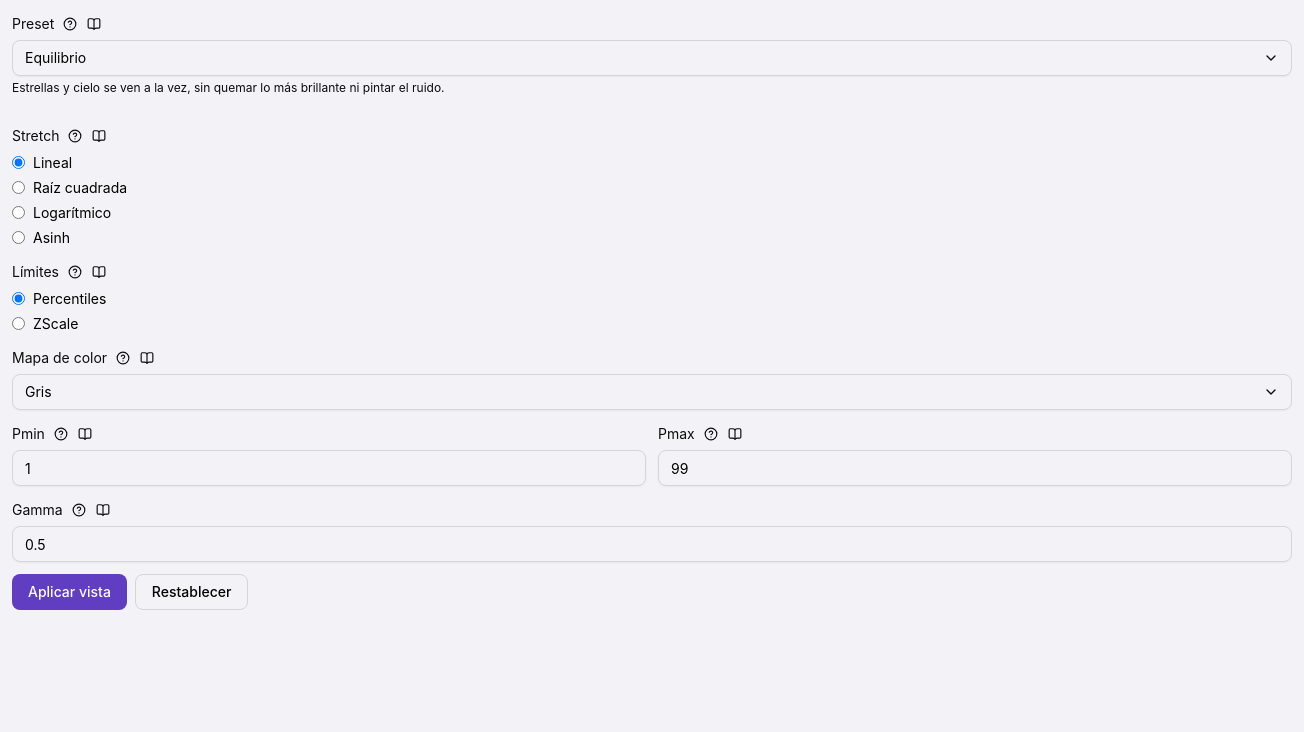
RenderViewForm › shows the hovered preset description under the select
The image size is (1304, 732).
Click the dropdown with test id "render-preset" at (56, 58), box [12,40,1292,76]
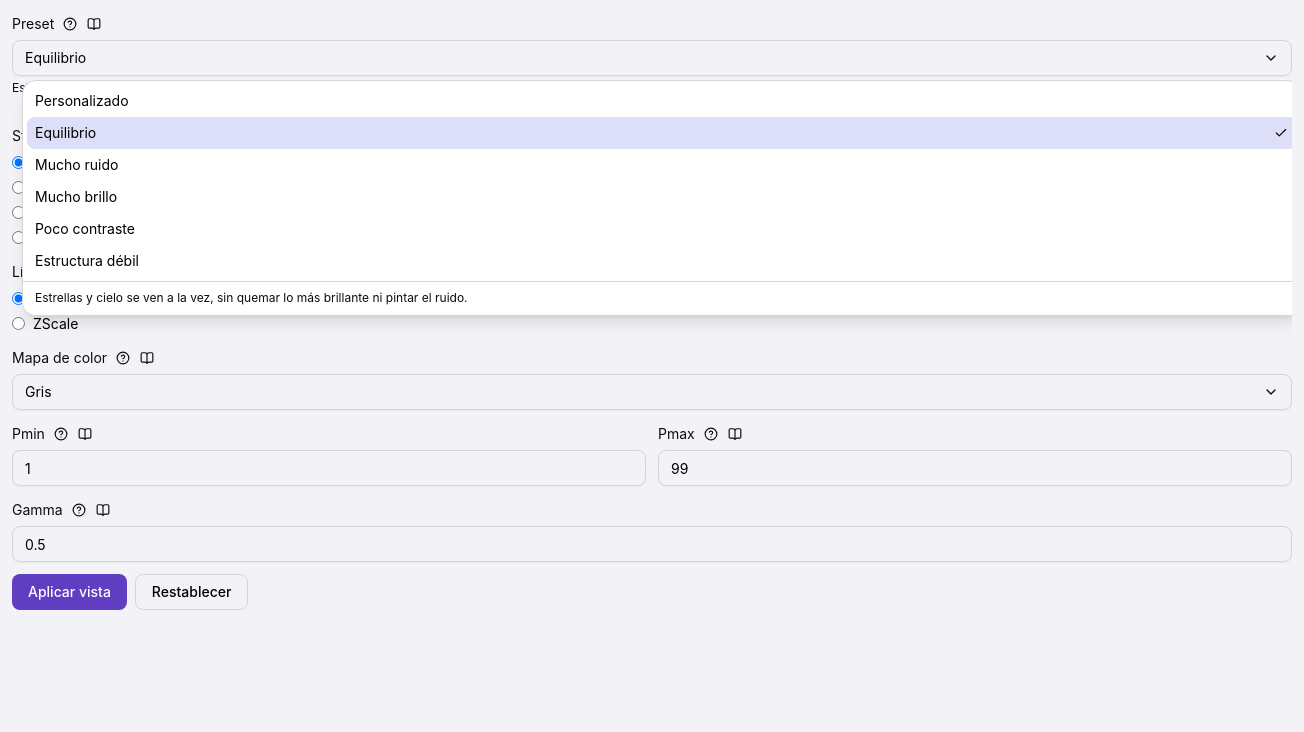
Hover over the option with test id "render-preset-estructura-debil" at (87, 260), box [35,252,139,269]
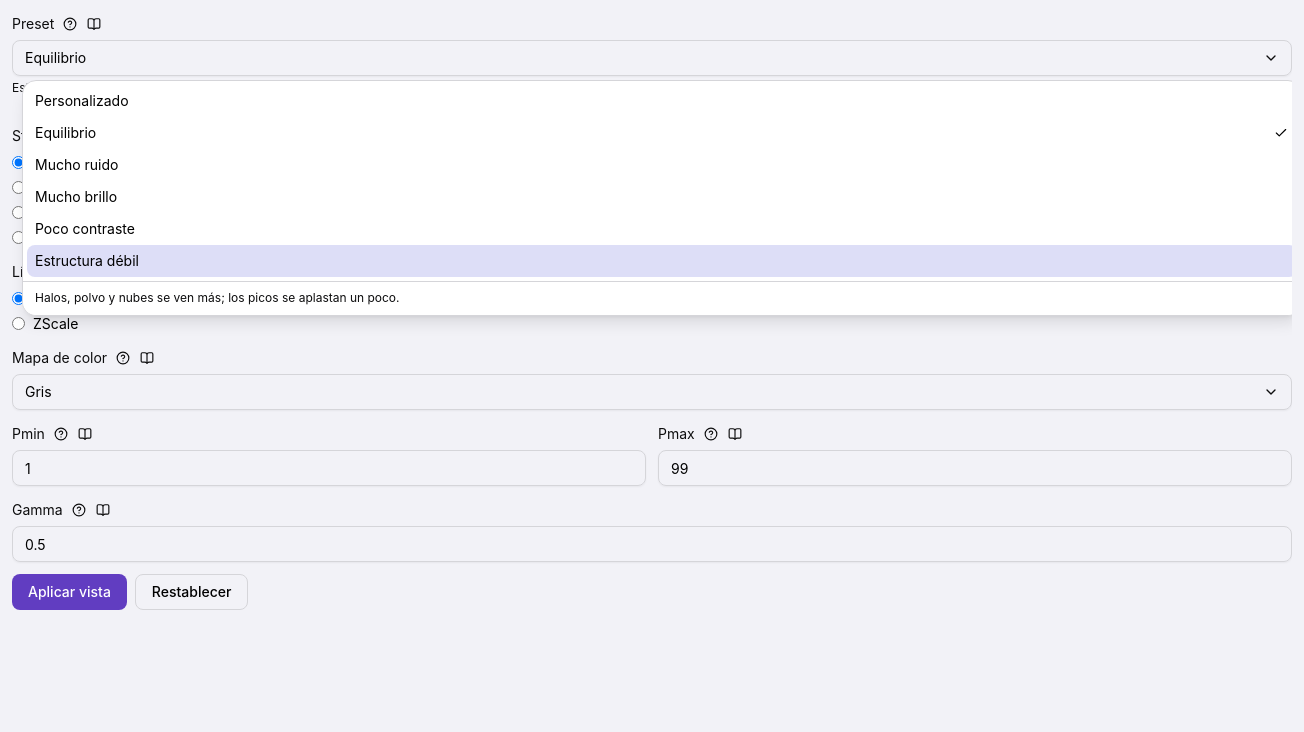
Expected: the text with test id "render-preset-hover-hint" shows "Halos", [35,290,400,305]
